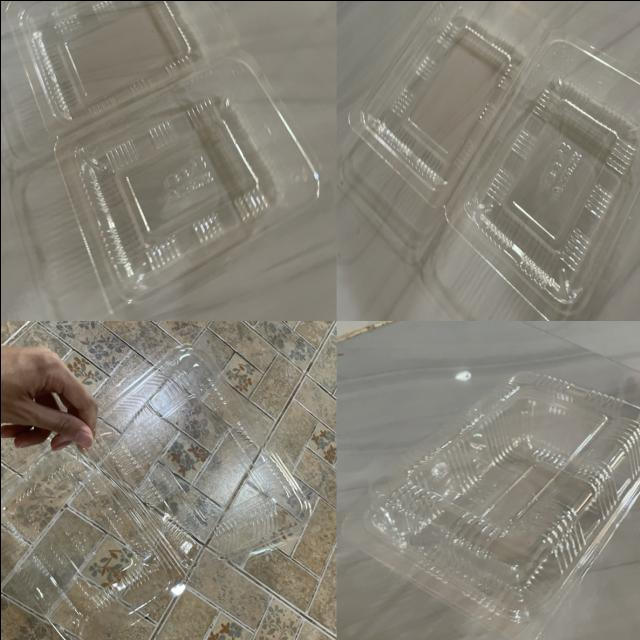plastik: (6, 0, 319, 316), (349, 0, 640, 317), (0, 344, 310, 640), (342, 371, 640, 640)
